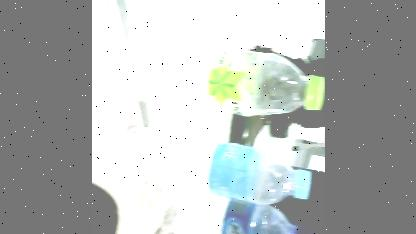Plastic Bottle: (96, 38, 324, 118), (119, 126, 312, 204), (134, 176, 314, 234)
